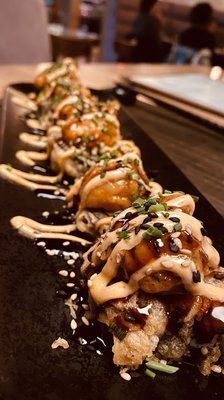curry: (2, 58, 224, 399)
pasta: (48, 32, 100, 64)
